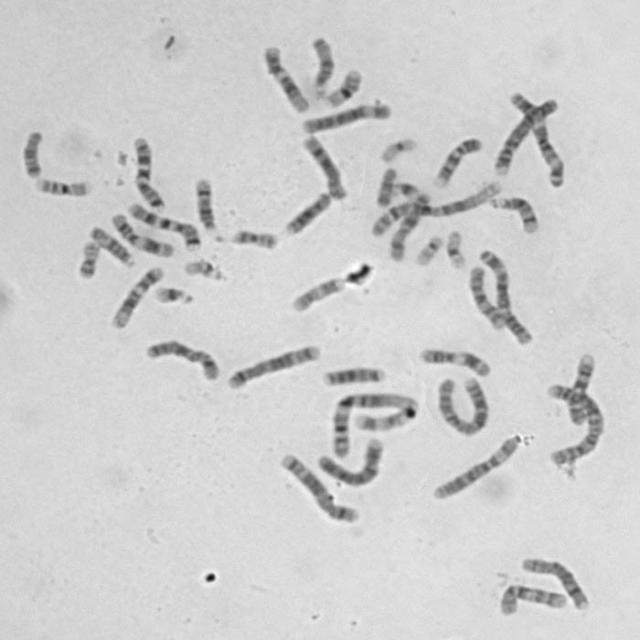A1: (366, 175, 504, 238), (326, 386, 421, 460)
A2: (540, 378, 607, 467), (431, 370, 491, 438)
A3: (473, 245, 535, 346), (505, 88, 567, 189)
B4: (488, 92, 562, 178), (313, 432, 387, 488)
B5: (275, 448, 361, 524), (223, 340, 323, 390)
C10: (494, 578, 570, 617), (466, 262, 508, 331)
C11: (107, 208, 177, 259), (415, 342, 495, 378)
C12: (106, 261, 166, 330), (259, 40, 312, 114)
C6: (428, 431, 523, 502), (297, 97, 395, 135)
C7: (123, 198, 203, 251), (126, 131, 167, 212)
C8: (516, 551, 594, 612), (297, 130, 350, 201)
C9: (428, 132, 484, 188), (562, 348, 598, 426)
D13: (280, 188, 334, 236), (319, 361, 389, 387)
D14: (486, 191, 542, 235), (190, 173, 220, 232)
D15: (85, 222, 137, 269), (306, 31, 336, 100)
E16: (321, 63, 366, 109), (30, 172, 93, 198)
E17: (287, 271, 348, 315), (351, 403, 416, 434)
E18: (16, 125, 48, 179), (371, 162, 401, 208)
F19: (376, 132, 420, 164), (441, 226, 469, 270)
F20: (227, 224, 280, 251), (72, 236, 102, 280)
G21: (150, 280, 197, 306), (390, 178, 424, 201)
G22: (180, 255, 229, 282), (411, 230, 445, 268)
X: (141, 334, 222, 383), (383, 189, 433, 263)
